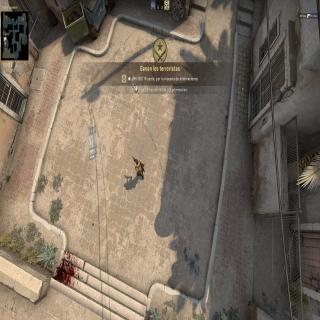T-Head: (135, 158, 139, 166)
